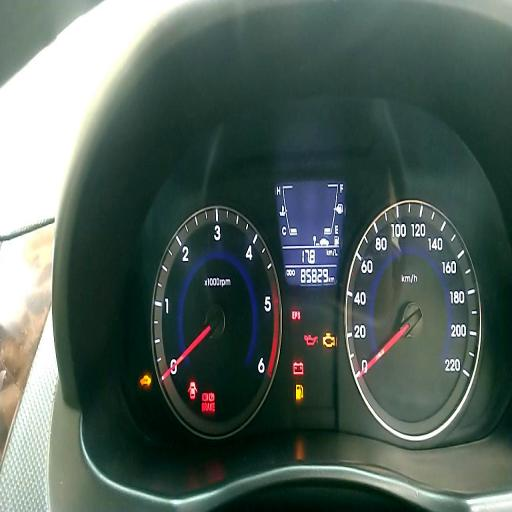check_engine: (323, 332, 335, 350)
oil: (303, 334, 319, 347)
tachometer: (151, 202, 283, 441)
vehicle_charging: (293, 362, 303, 375)
